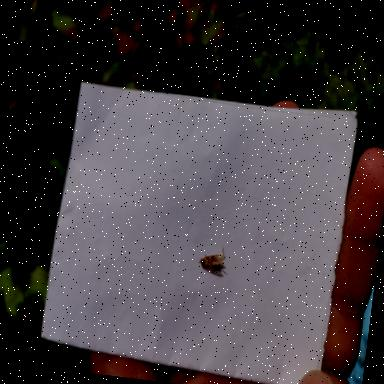pbw: (196, 244, 230, 276)
